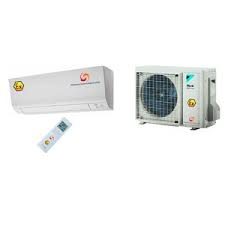ac: (6, 59, 116, 121)
